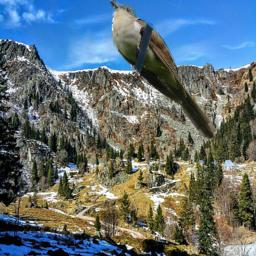Cuckoo: (110, 0, 217, 140)
